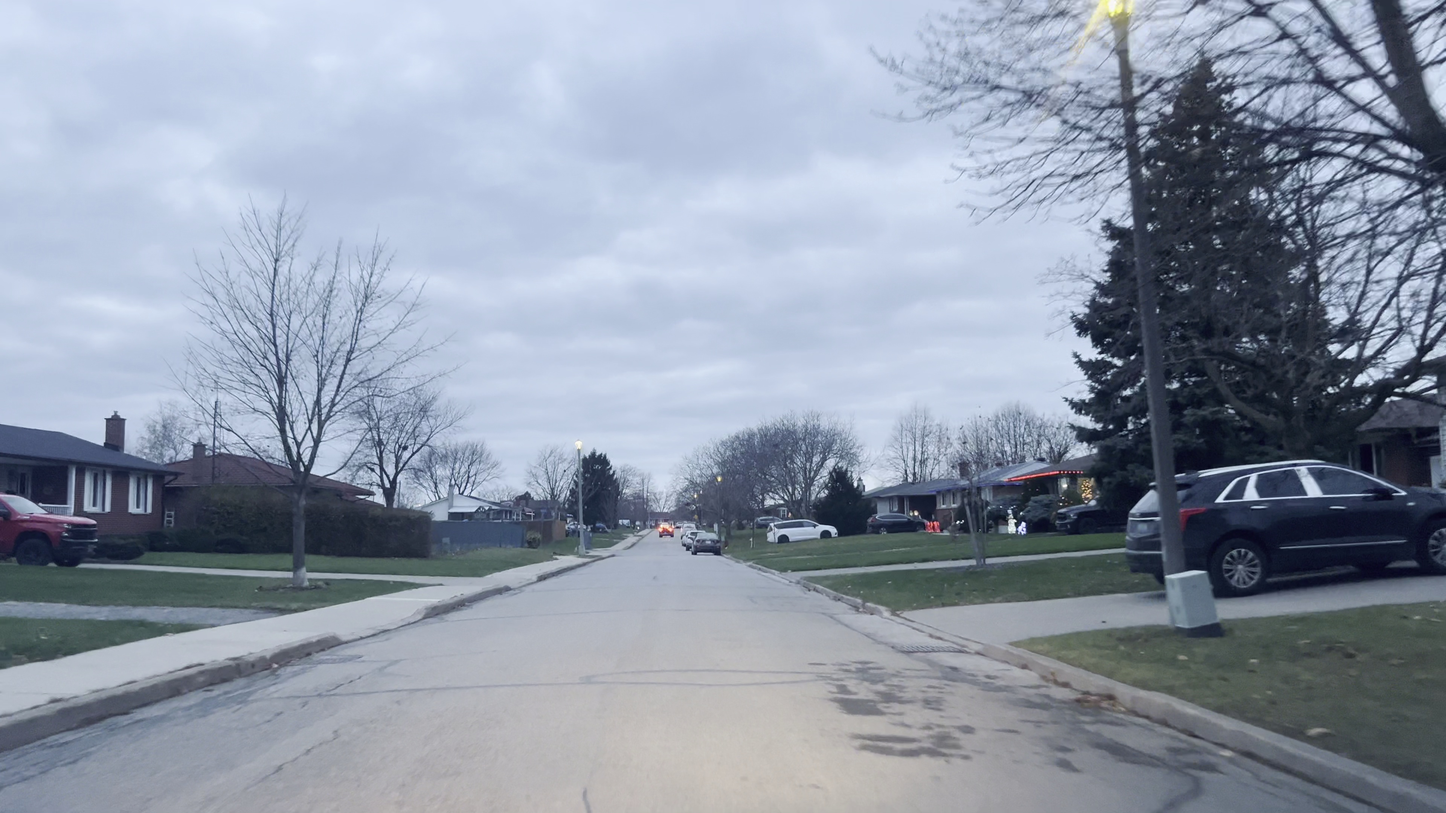cracks: (276, 676, 843, 700), (1061, 718, 1192, 784)
